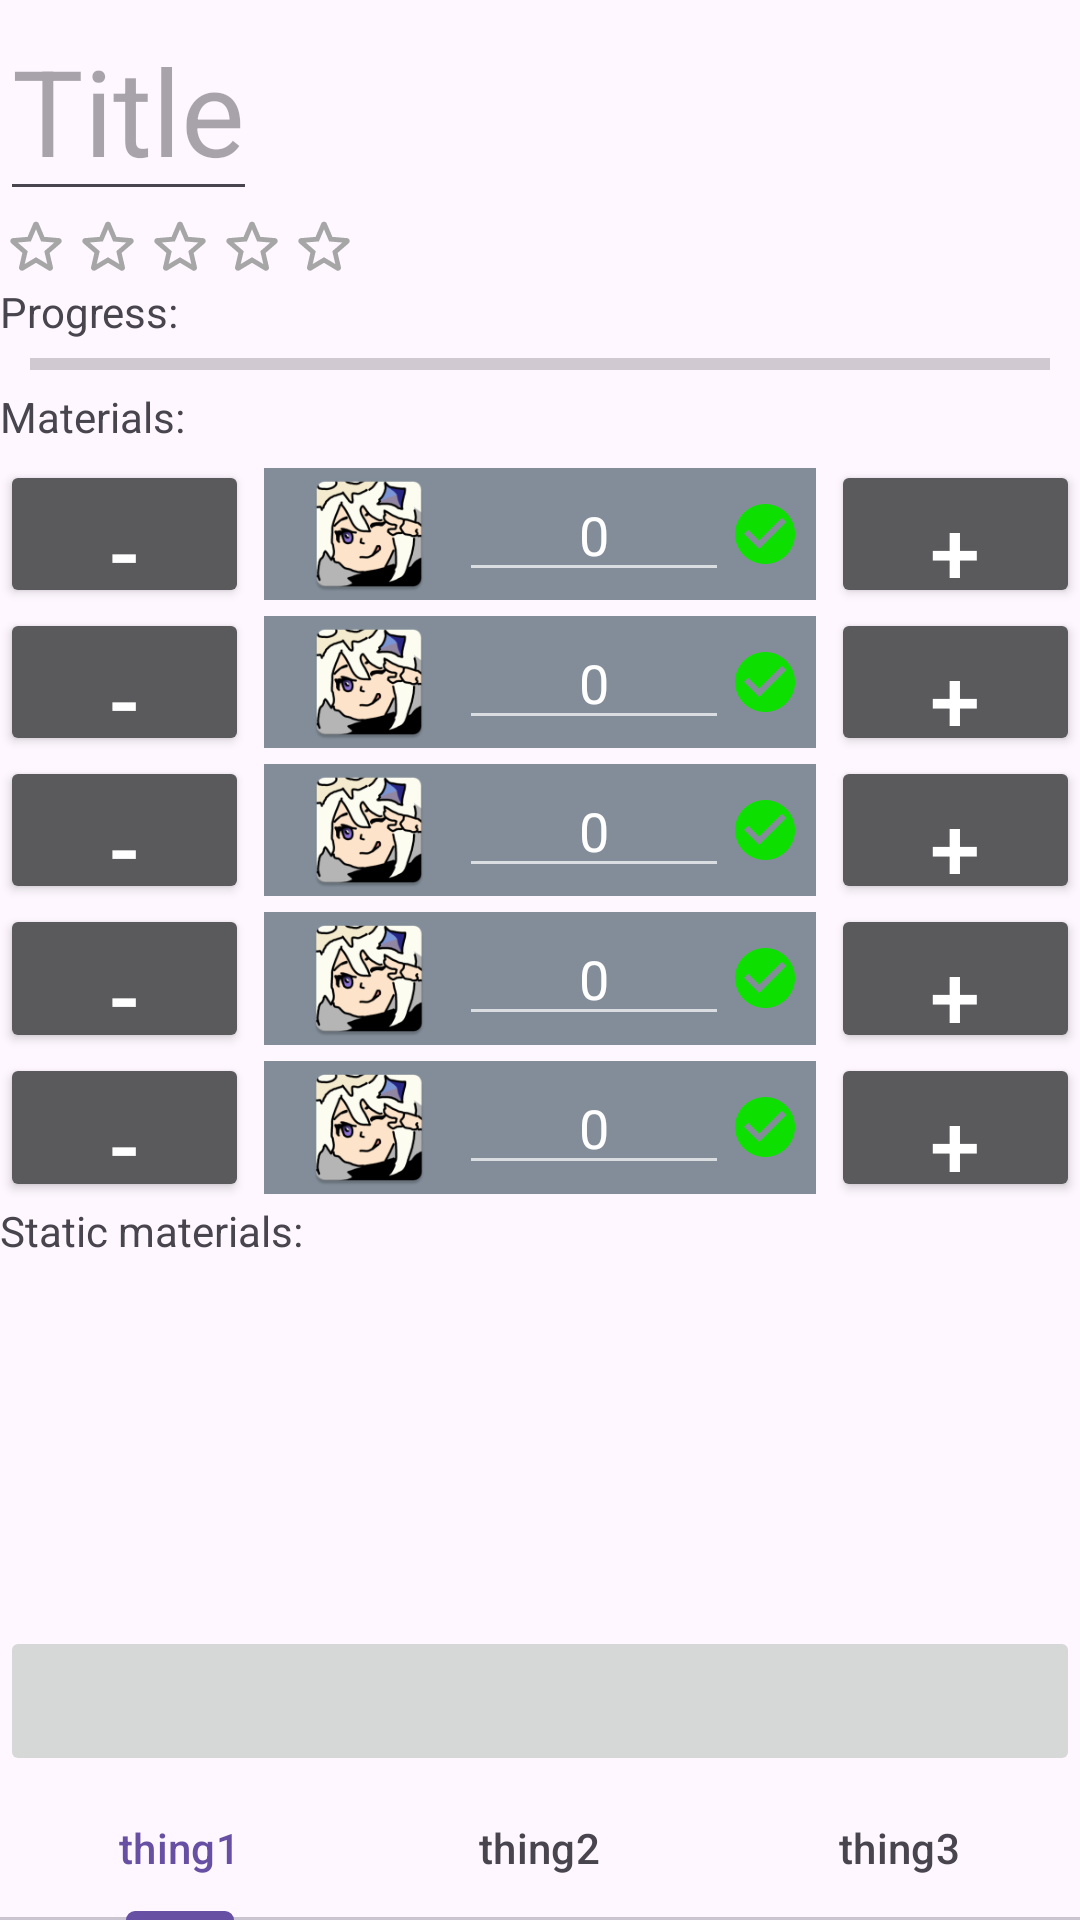

Where to tap for icons on this 1080*1920 app screen, as (x,y):
check circle: (765,534), (765,682), (765,830), (765,978), (765,1127)
star border: (36,246), (108,246), (180,246), (252,246), (324,246)
